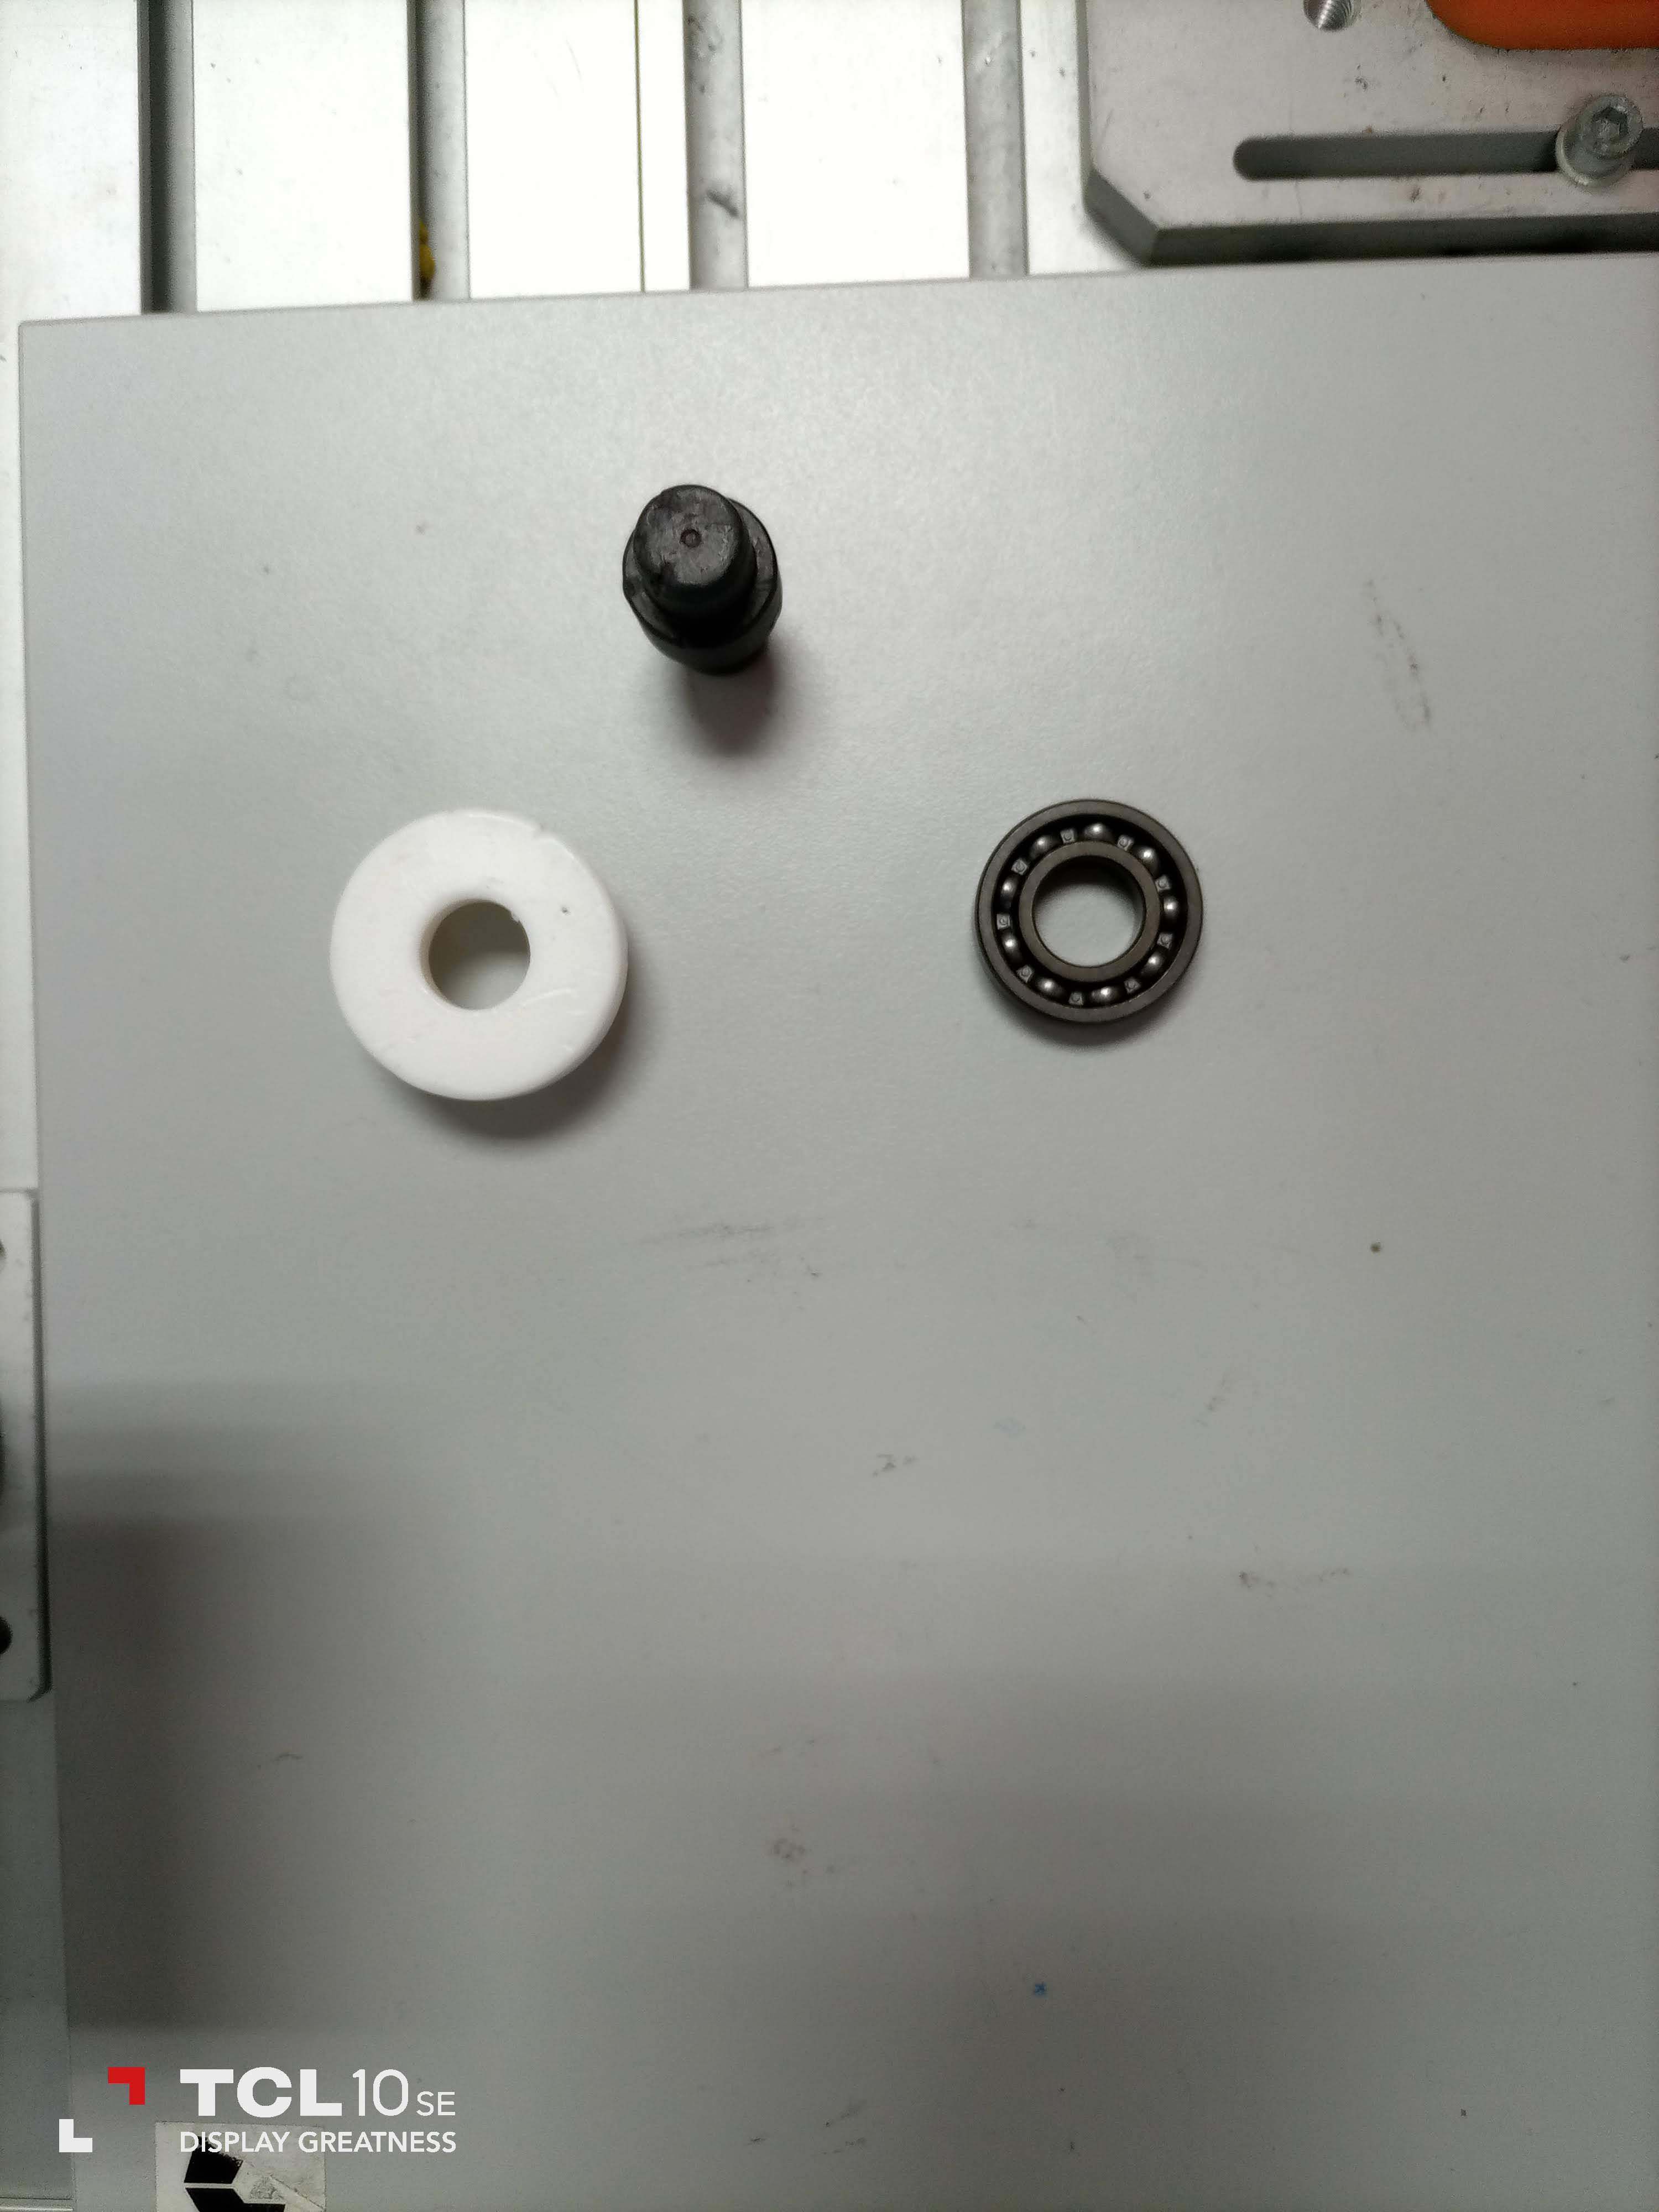Ardatza: (619, 482, 807, 704)
Roda: (974, 782, 1216, 1040)
Tapa: (335, 808, 634, 1099)
